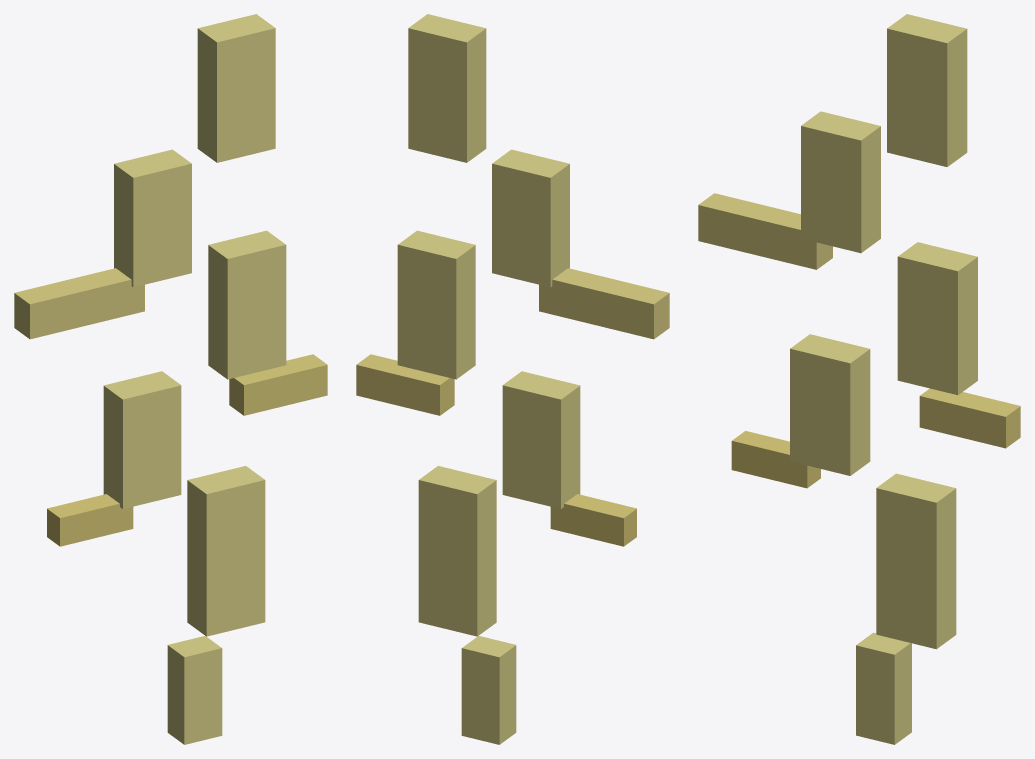
The model's file is lightning.glb.
3 renders of one model, left to right at view 1: azimuth 30°, elevation 25°; view 2: azimuth 150°, elevation 25°; view 3: azimuth 330°, elevation 25°, orthographic. The views are drawn at different scales.
Visible parts, largest first — view 1: world; view 2: world; view 3: world.
Part boxes in pixels (box(x1,y1,x2,y2)): world: box(14, 14, 327, 744); world: box(356, 14, 669, 744); world: box(698, 14, 1020, 744).
Bounding box in the file's own units: 1.64 × 3.65 × 0.184.
